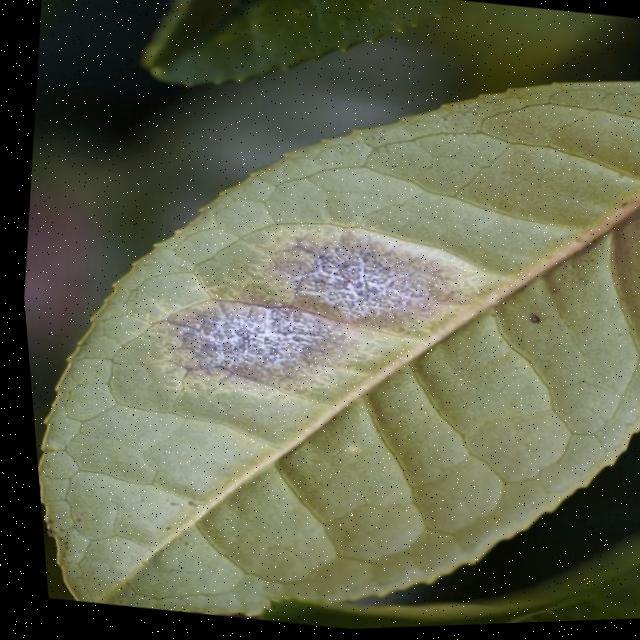Tea exobasidium blight: (240, 224, 452, 354), (166, 281, 331, 400)
